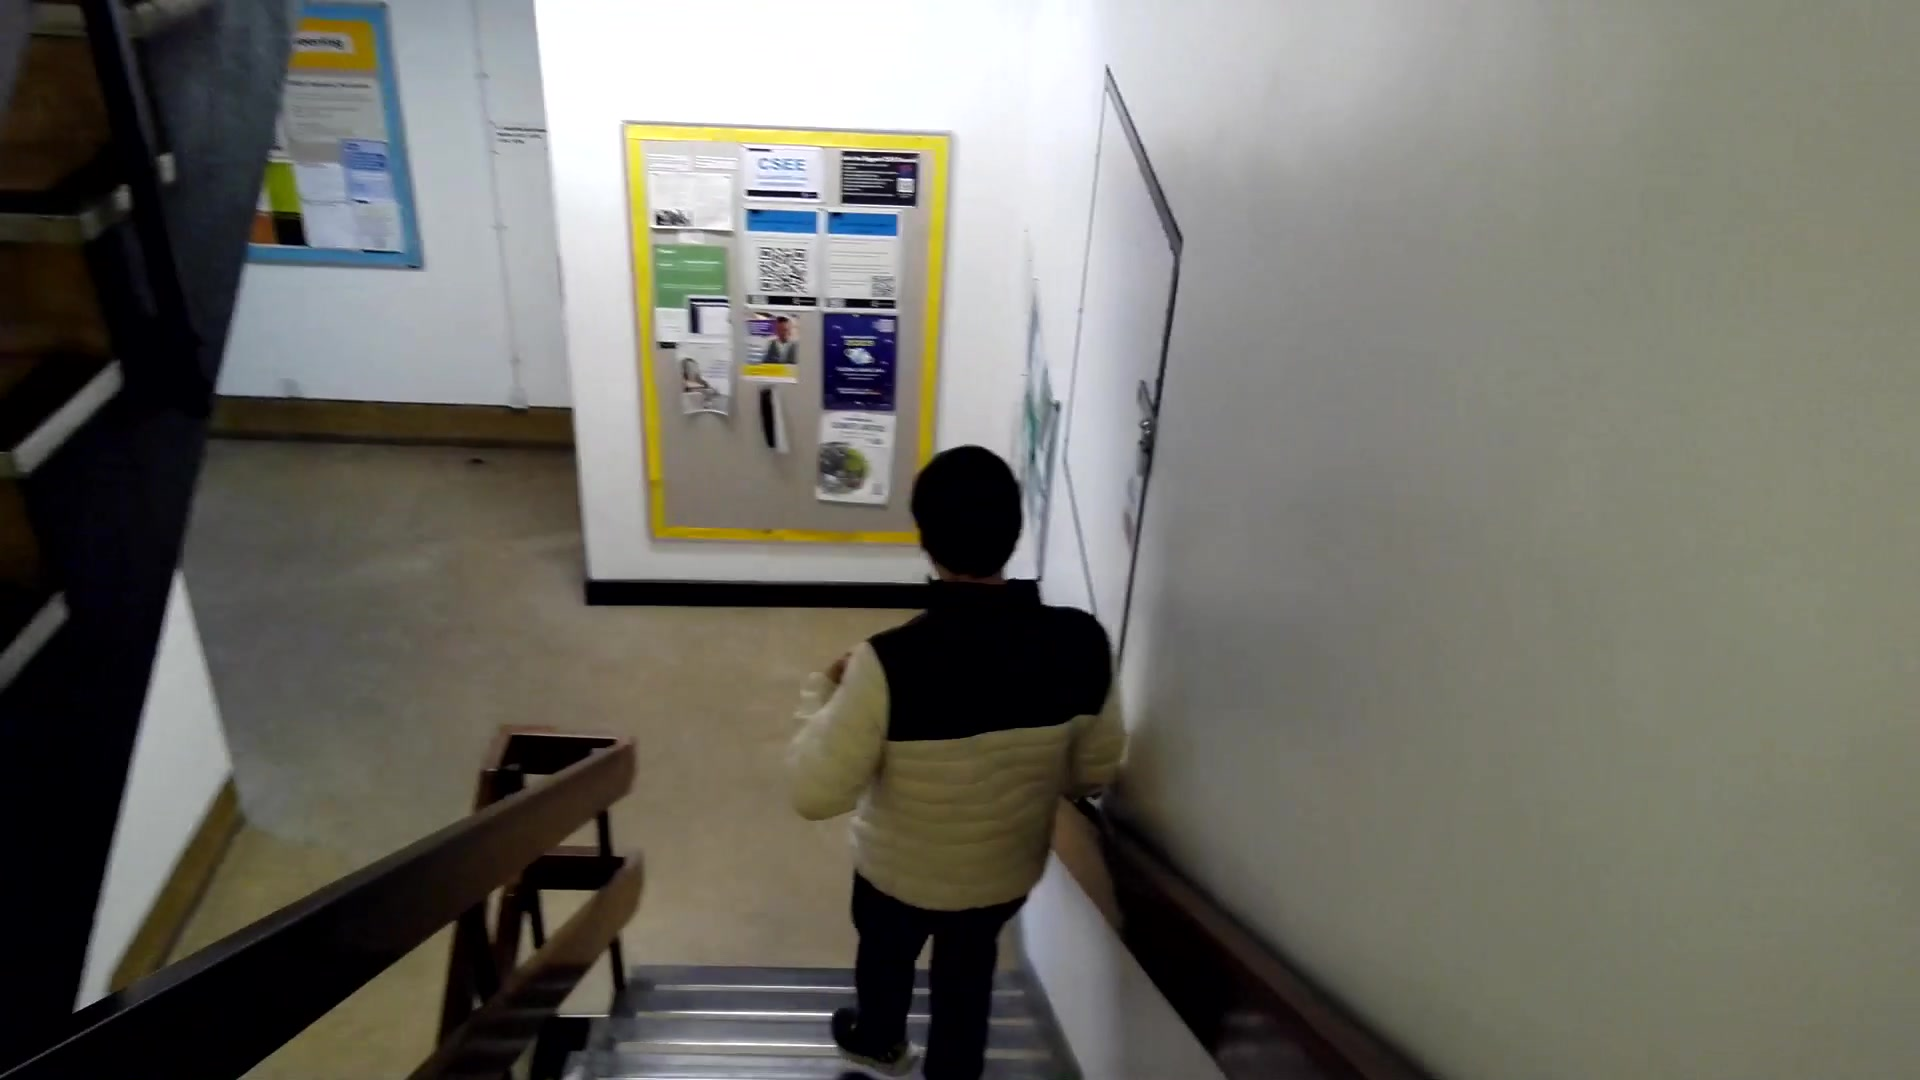Person: (837, 441, 1129, 1079)
Stairs: (586, 933, 1093, 1080)
